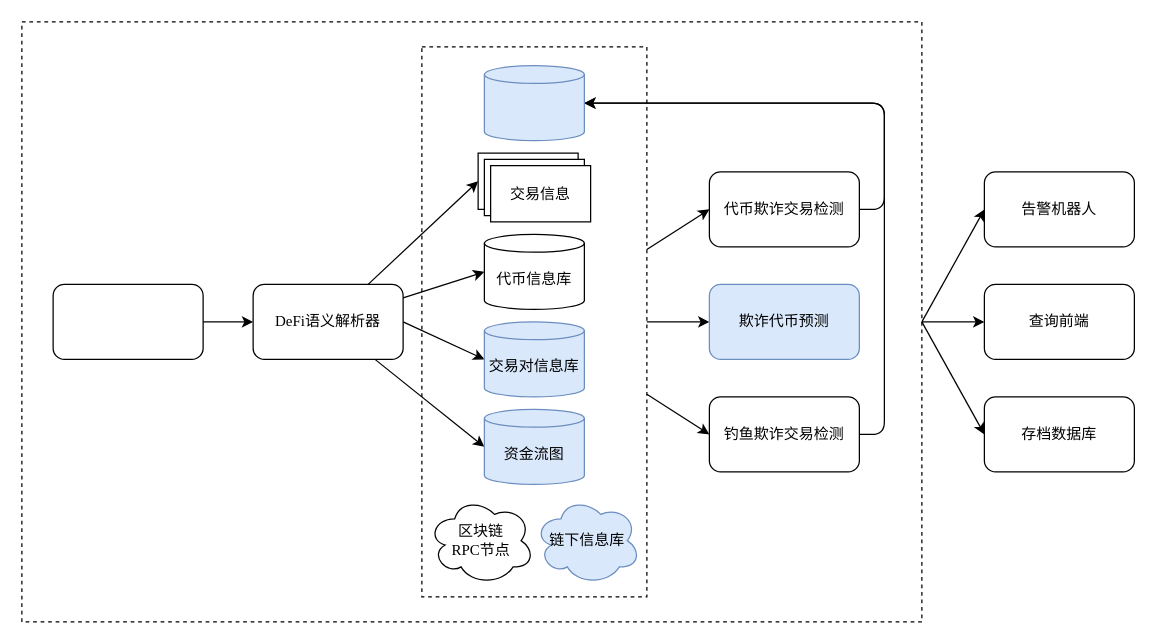
Image size: 1156x644. Some labels were removed from this diagram. Here are the shapes that lost their labels. From the top down, the box of each, then its label:
(483, 64, 584, 141): 欺诈数据库
(52, 283, 203, 359): 区块数据解析器
